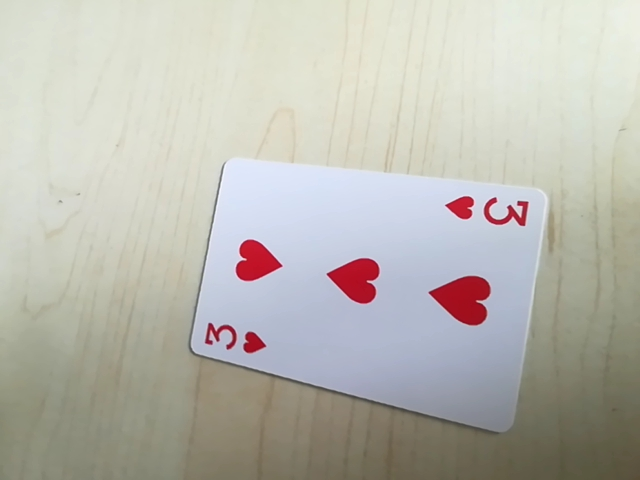hx 3: (442, 188, 536, 234), (197, 318, 270, 360)
